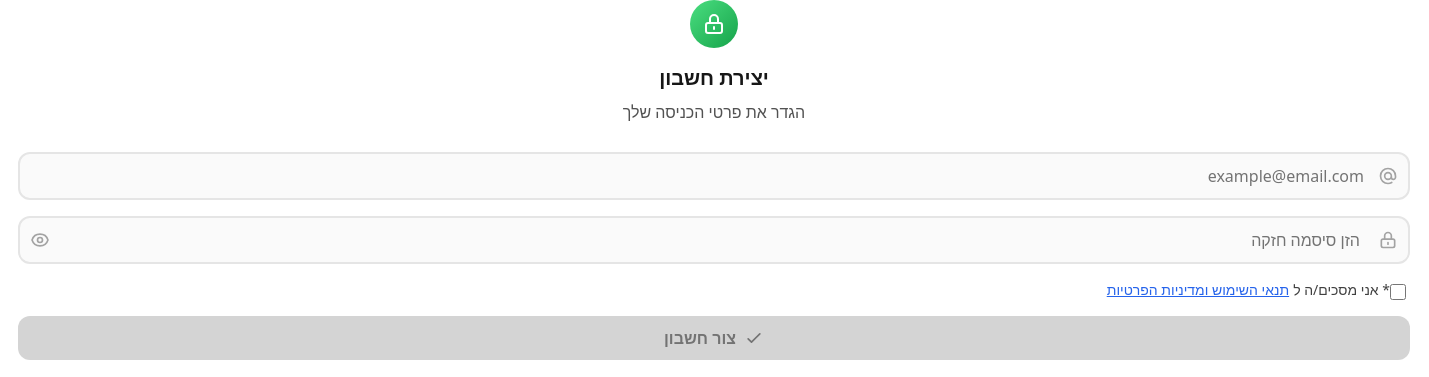
Scenario: AccountDetailsStep › Real-time Validation › should update form validity when any field changes
expect the button with test id "create-account-button" is disabled: met, box [18, 316, 1410, 360]
Type "user@example.com" into the field with test id "email-input" at (714, 176), box [18, 152, 1410, 200]
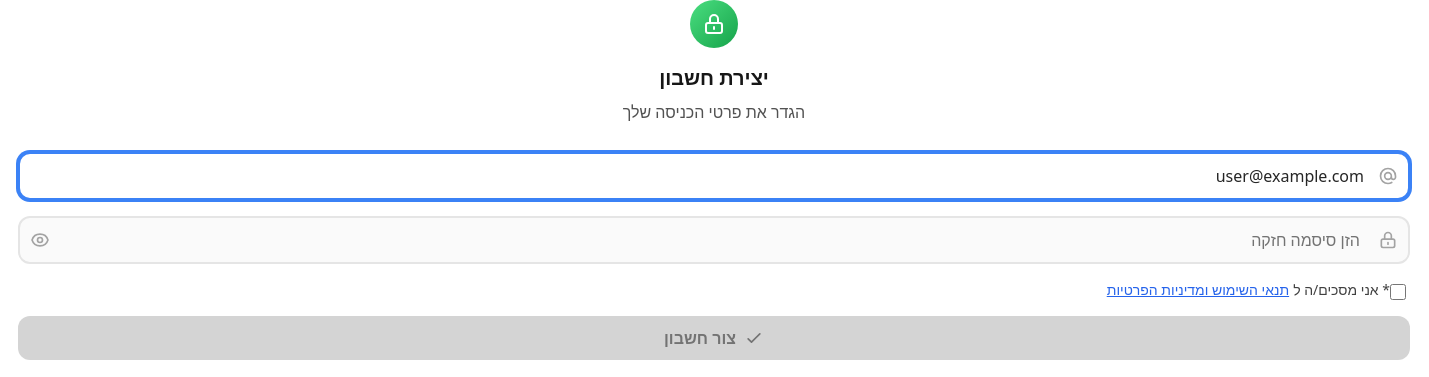
expect the button with test id "create-account-button" is disabled: met, box [18, 316, 1410, 360]
Type "Password123!" into the password field with test id "password-input" at (714, 240), box [18, 216, 1410, 264]
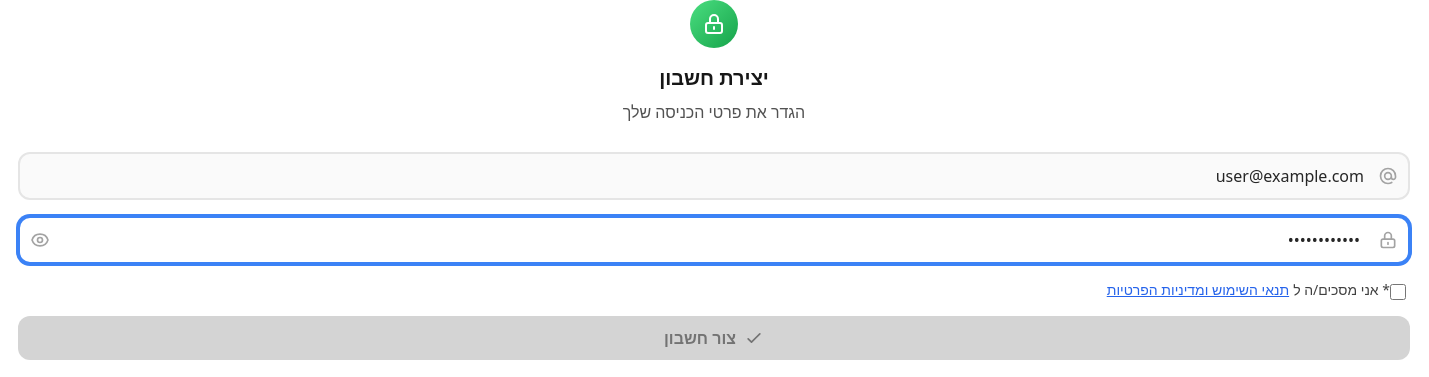
expect the button with test id "create-account-button" is disabled: met, box [18, 316, 1410, 360]
Click the checkbox with test id "consent-checkbox" at (1398, 292), box [1390, 284, 1406, 300]
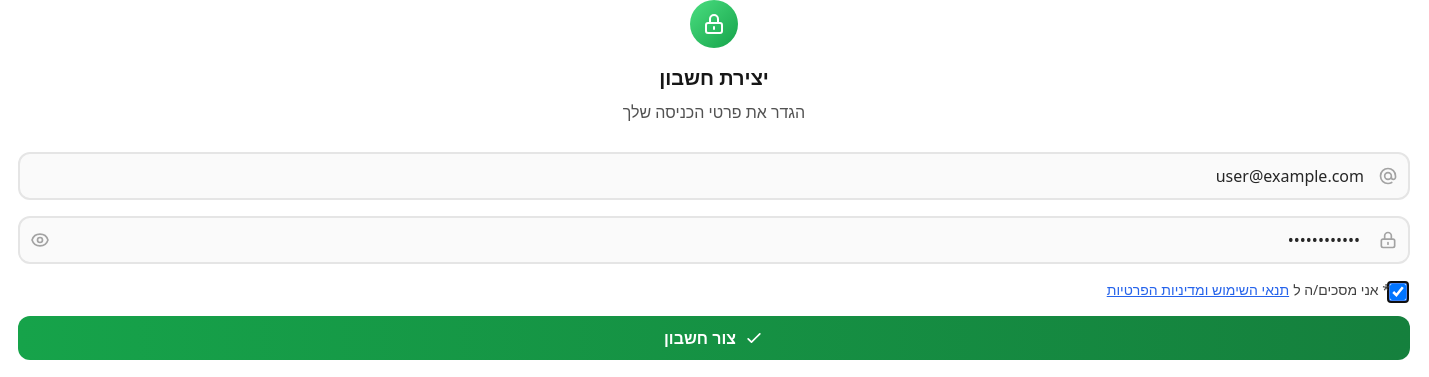
expect the button with test id "create-account-button" is enabled: met, box [18, 316, 1410, 360]
